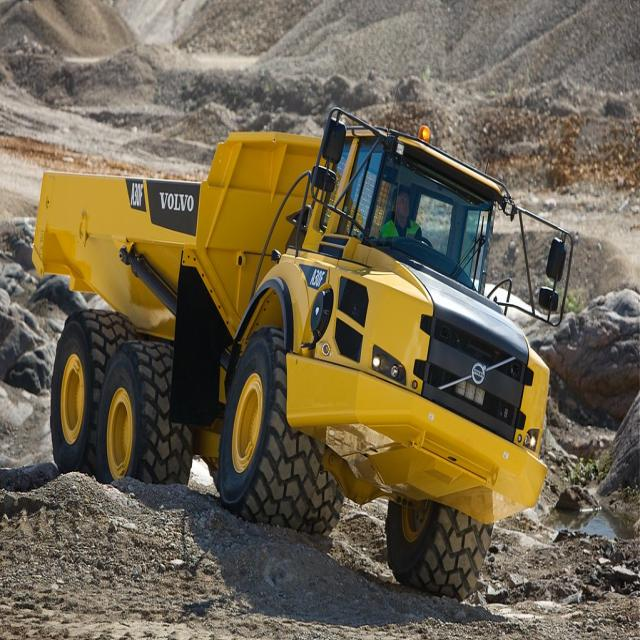dump_truck: (27, 104, 567, 605)
